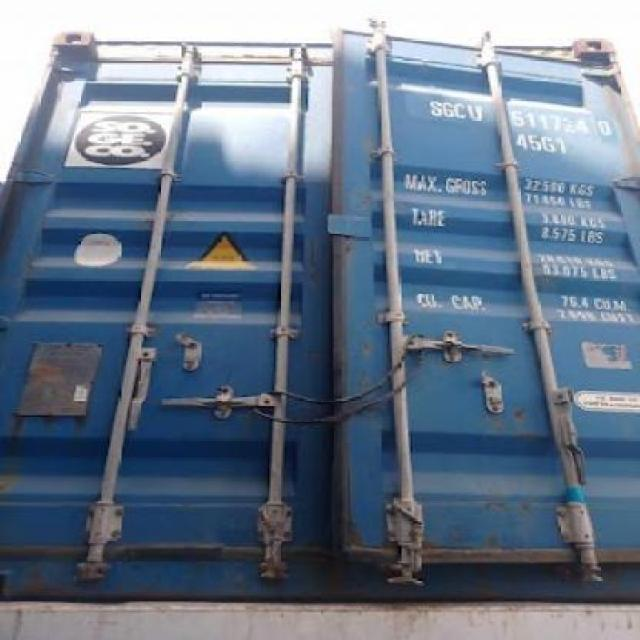ISO: (516, 135, 570, 155)
container_number: (434, 100, 612, 132)
